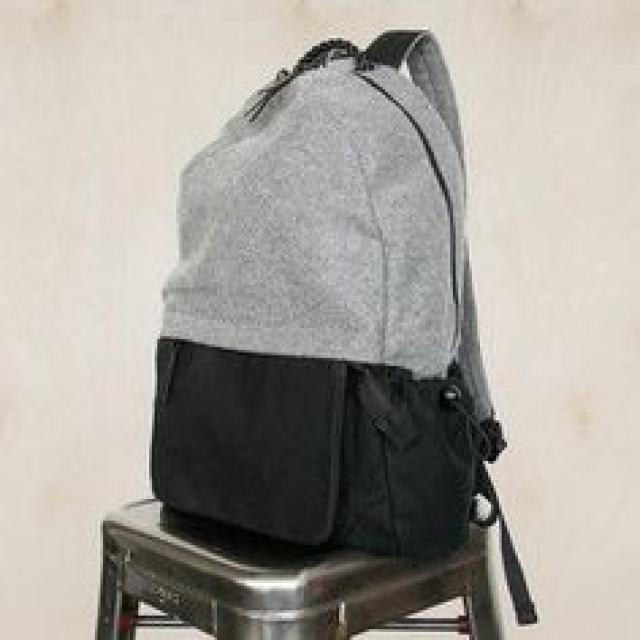backpack: (147, 28, 538, 625)
